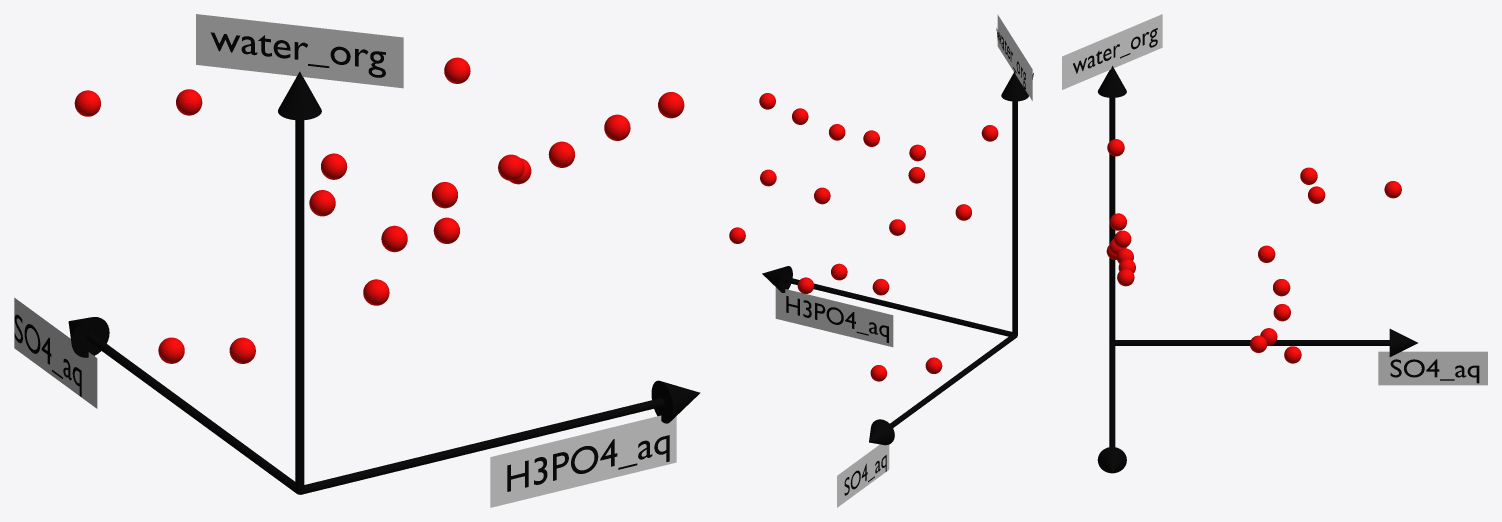
File: LLC washing 130823 water_org.glb
3 views of the same model, side by side, from view 1: azimuth 30°, elevation 25°; view 2: azimuth 150°, elevation 25°; view 3: azimuth 270°, elevation 25° (orthographic). The views are drawn at different scales.
Visible parts, largest first — view 1: Plane.002, Plane, Plane.001, Z-axis, X-axis, Y-axis, X.001, Z.001, Z-arrow, Y-arrow, X-arrow; view 2: Plane, Plane.001, Z-axis, X-axis, Plane.002, Y-axis, X, Y-arrow, Z-arrow, X-arrow; view 3: Plane.001, Plane.002, Y-axis, Z-axis, X-axis, Y, X-arrow, Z, Z-arrow.
Boxes of the visible parts, left/top/right/bottom form: Plane.002: left=196, top=14, right=403, bottom=88; Plane: left=490, top=415, right=676, bottom=507; Plane.001: left=14, top=297, right=97, bottom=408; Z-axis: left=295, top=120, right=304, bottom=492; X-axis: left=300, top=398, right=664, bottom=494; Y-axis: left=86, top=333, right=299, bottom=494; X.001: left=507, top=435, right=669, bottom=491; Z.001: left=210, top=32, right=385, bottom=77; Z-arrow: left=278, top=71, right=321, bottom=120; Y-arrow: left=68, top=317, right=109, bottom=357; X-arrow: left=651, top=380, right=700, bottom=423; Plane: left=775, top=287, right=893, bottom=347; Plane.001: left=837, top=444, right=889, bottom=507; Z-axis: left=1012, top=101, right=1017, bottom=335; X-axis: left=784, top=277, right=1012, bottom=336; Plane.002: left=997, top=14, right=1032, bottom=100; Y-axis: left=890, top=334, right=1017, bottom=427; X: left=786, top=296, right=888, bottom=342; Y-arrow: left=869, top=419, right=894, bottom=445; Z-arrow: left=1001, top=71, right=1028, bottom=101; X-arrow: left=762, top=266, right=792, bottom=292; Plane.001: left=1378, top=351, right=1487, bottom=385; Plane.002: left=1062, top=14, right=1162, bottom=89; Y-axis: left=1114, top=340, right=1389, bottom=345; Z-axis: left=1109, top=98, right=1115, bottom=342; X-axis: left=1109, top=341, right=1115, bottom=446; Y: left=1390, top=359, right=1479, bottom=383; X-arrow: left=1097, top=447, right=1126, bottom=473; Z: left=1073, top=28, right=1157, bottom=73; Z-arrow: left=1097, top=66, right=1126, bottom=97.
Bounding box in the file's own units: 1.22 × 1.33 × 1.46.
